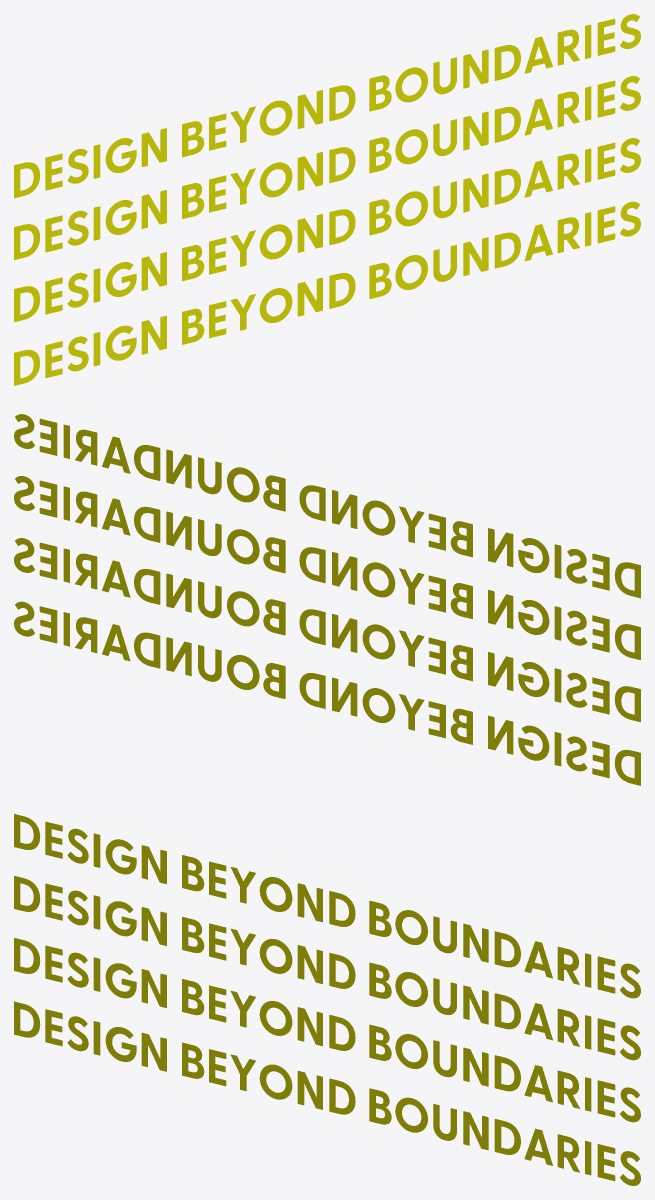
File: dbbText.glb
3 renders of one model, top to bottom at view 1: azimuth 30°, elevation 25°; view 2: azimuth 150°, elevation 25°; view 3: azimuth 330°, elevation 25°, orthographic.
Visible parts, largest first — view 1: テキスト, テキスト.003, テキスト.001, テキスト.002; view 2: テキスト, テキスト.003, テキスト.001, テキスト.002; view 3: テキスト.002, テキスト.003, テキスト, テキスト.001.
Boxes of the visible parts, bbox=[...] form: テキスト: bbox=[14, 138, 640, 322]; テキスト.003: bbox=[14, 14, 640, 198]; テキスト.001: bbox=[14, 76, 640, 259]; テキスト.002: bbox=[14, 201, 640, 385]; テキスト: bbox=[14, 538, 640, 722]; テキスト.003: bbox=[14, 414, 640, 598]; テキスト.001: bbox=[14, 476, 640, 659]; テキスト.002: bbox=[14, 601, 640, 785]; テキスト.002: bbox=[14, 1001, 640, 1185]; テキスト.003: bbox=[14, 814, 640, 998]; テキスト: bbox=[14, 938, 640, 1122]; テキスト.001: bbox=[14, 876, 640, 1060].
Bounding box in the file's own units: 14.78 × 5 × 1.71e-16.
